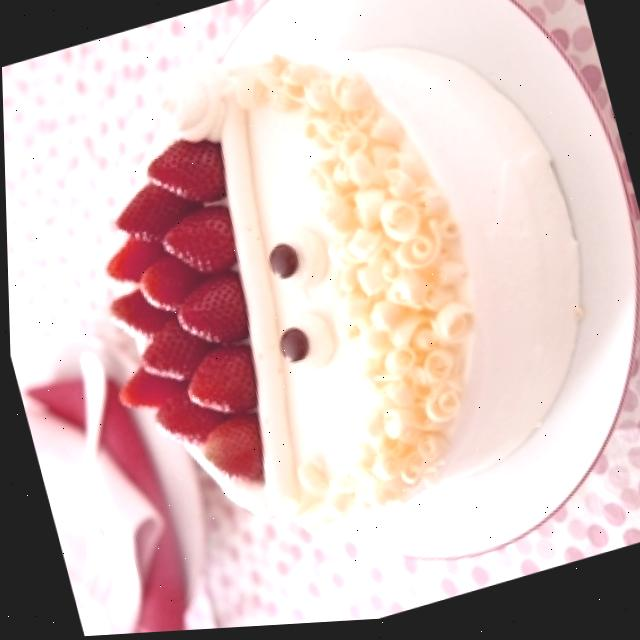蛋糕甜品: (6, 0, 640, 640)
